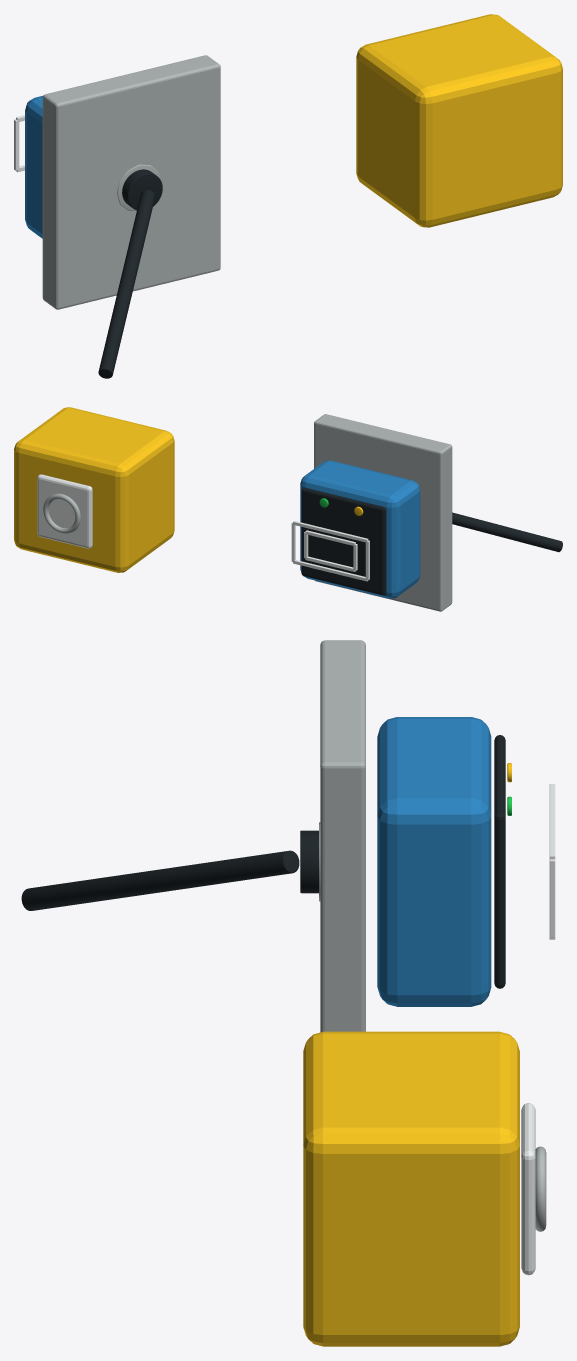
Rendered from rfid_read_write_head.glb.
3 renders of one model, top to bottom at view 1: azimuth 30°, elevation 25°; view 2: azimuth 150°, elevation 25°; view 3: azimuth 270°, elevation 25°, orthographic. The views are drawn at different scales.
Parts seen in each view (by area): view 1: TAGGED_TOTE, READER_mount, RFID_reader_cable, RFID_head, REAR_M12_body; view 2: TAGGED_TOTE, READER_mount, RFID_head, RFID_face, RFID_tag, RFID_reader_cable, RFID_tag_coil, RFID_loop_top_0.15, RFID_loop_bottom_0.15; view 3: TAGGED_TOTE, RFID_head, READER_mount, RFID_reader_cable, RFID_face, RFID_tag, REAR_M12_body, RFID_tag_coil.
Part boxes in pixels (box(x1,y1,x2,y2)): TAGGED_TOTE: box(356, 14, 562, 227); READER_mount: box(42, 55, 220, 309); RFID_reader_cable: box(98, 190, 155, 378); RFID_head: box(25, 96, 42, 238); REAR_M12_body: box(122, 169, 162, 210); TAGGED_TOTE: box(14, 407, 174, 572); READER_mount: box(314, 414, 452, 611); RFID_head: box(300, 460, 420, 598); RFID_face: box(301, 488, 386, 595); RFID_tag: box(37, 474, 92, 548); RFID_reader_cable: box(452, 512, 562, 552); RFID_tag_coil: box(43, 493, 80, 533); RFID_loop_top_0.15: box(293, 521, 368, 542); RFID_loop_bottom_0.15: box(293, 560, 367, 581); TAGGED_TOTE: box(303, 1031, 519, 1346); RFID_head: box(377, 717, 491, 1006); READER_mount: box(320, 640, 365, 1032); RFID_reader_cable: box(21, 850, 299, 910); RFID_face: box(494, 735, 505, 988); RFID_tag: box(521, 1103, 535, 1275); REAR_M12_body: box(300, 830, 318, 893); RFID_tag_coil: box(535, 1146, 546, 1231).
Size of the model in its own units: 1.75 by 0.64 by 0.9355.
